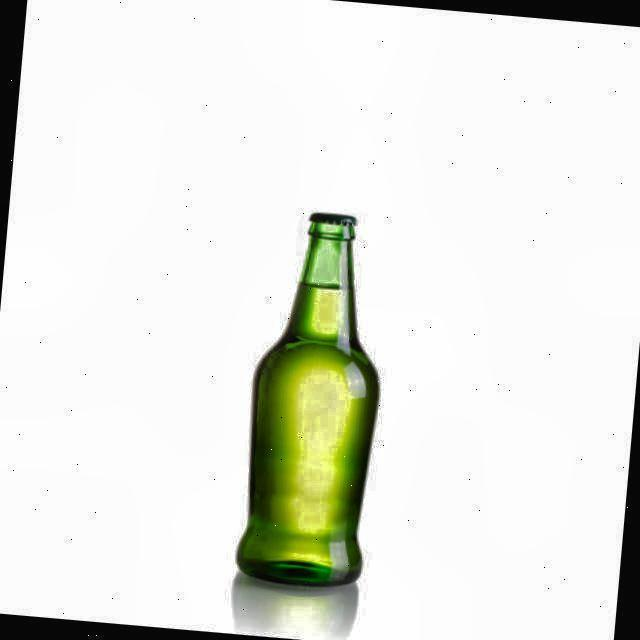glass: (235, 212, 380, 592)
